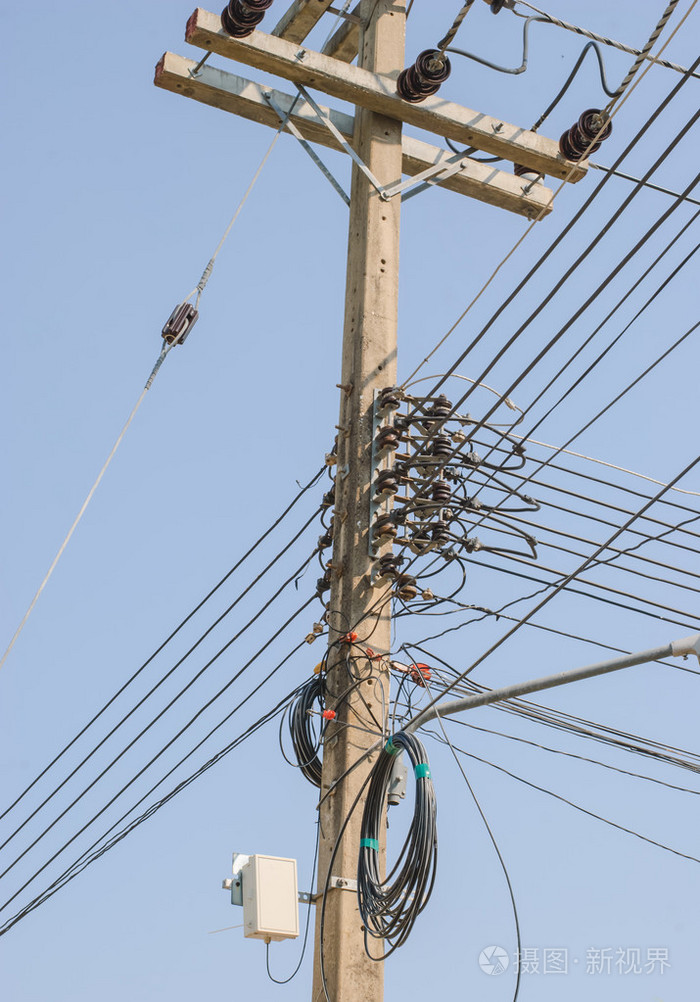insulator: (396, 48, 453, 99), (560, 108, 612, 161), (219, 1, 263, 37)
